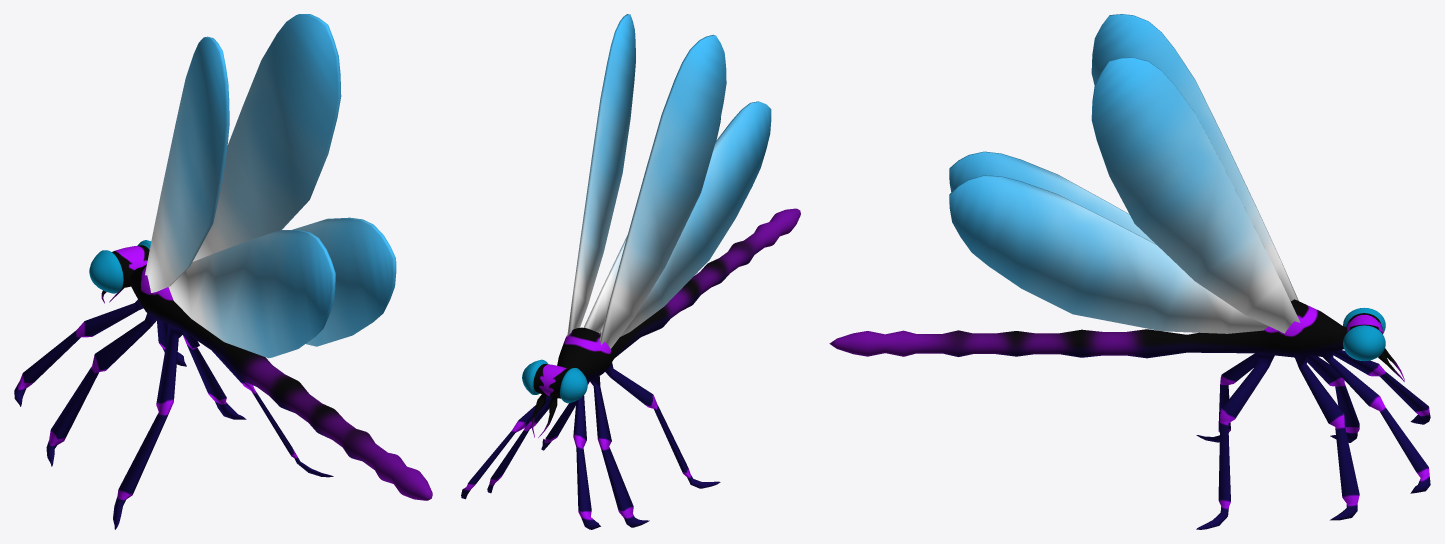
The model's file is DragonFly.fbx.
3 views of the same model, side by side, from view 1: azimuth 30°, elevation 25°; view 2: azimuth 150°, elevation 25°; view 3: azimuth 270°, elevation 25° (orthographic). The views are drawn at different scales.
Parts seen in each view (by area): view 1: Wings.001; view 2: Wings.001; view 3: Wings.001.
Part boxes in pixels (x1,y1,x2,y2): Wings.001: (14, 14, 432, 529); Wings.001: (461, 14, 800, 529); Wings.001: (829, 14, 1430, 529).
Bounding box in the file's own units: 179 × 481 × 396.
3 materials, 2 textured.
